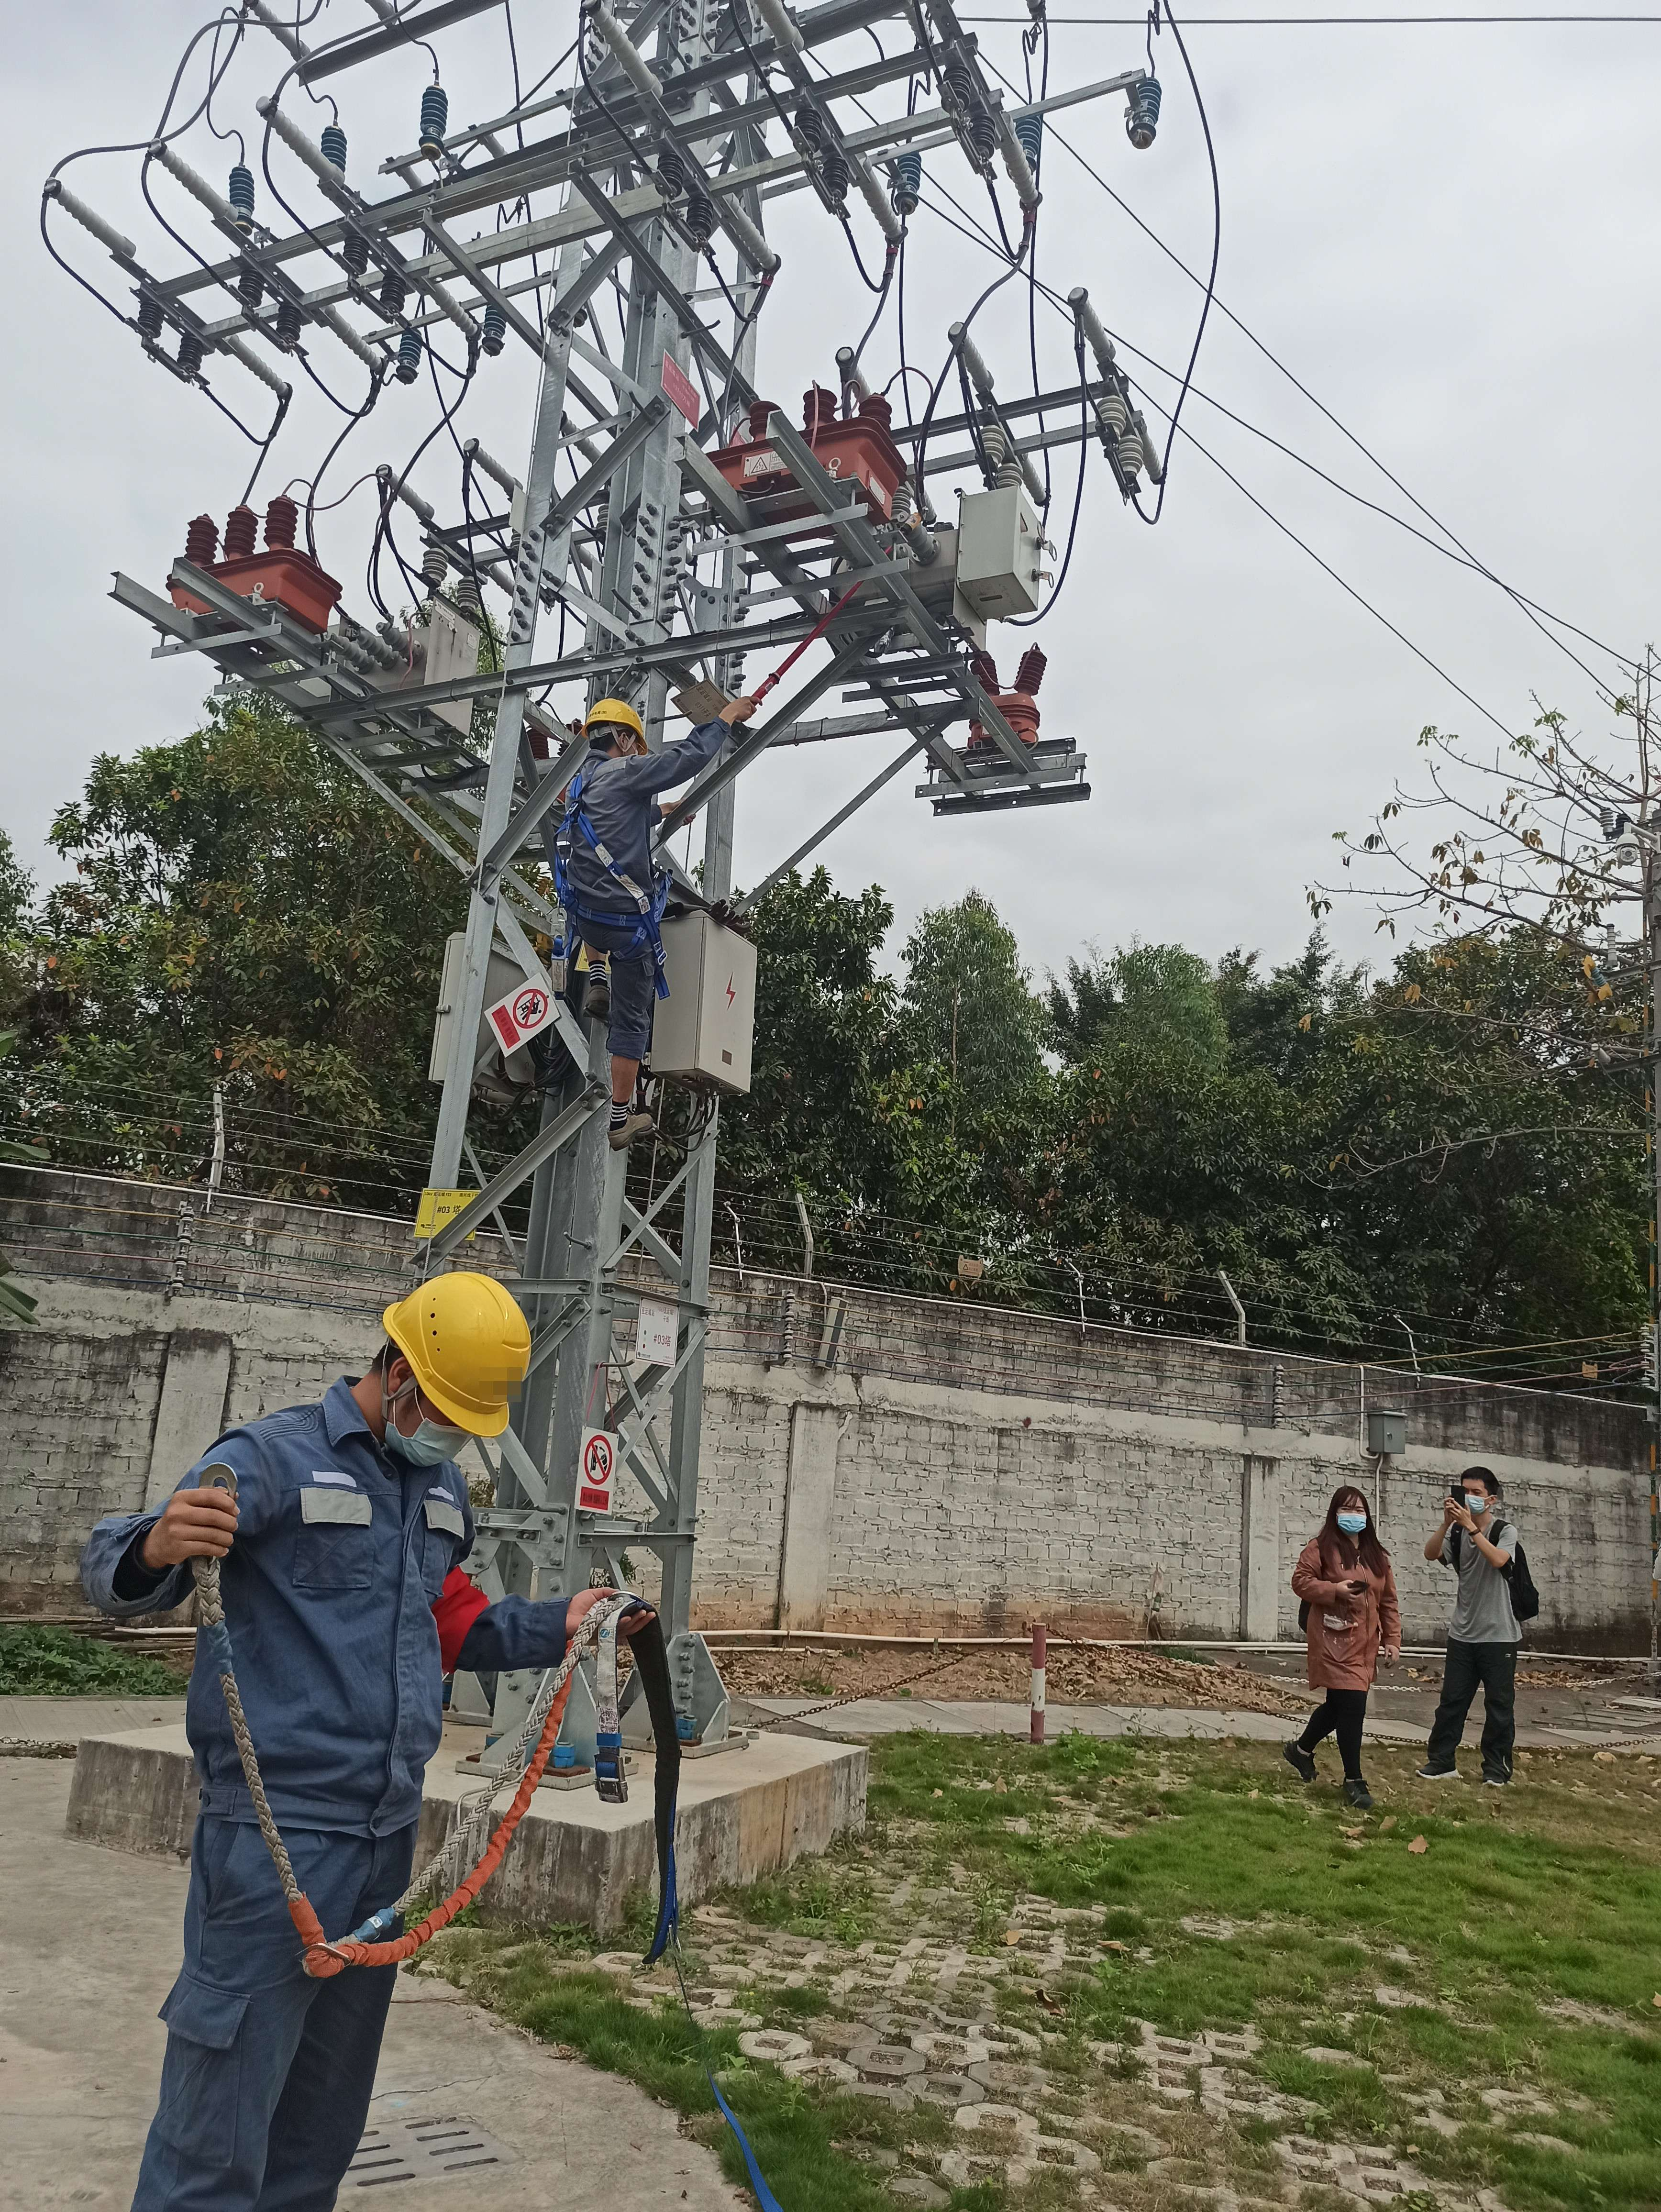downcloth: (1431, 1647, 1514, 1771), (1296, 1687, 1371, 1792)
downsuit: (112, 1795, 422, 2212), (569, 919, 660, 1064)
upcloth: (1295, 1533, 1392, 1682), (1436, 1514, 1532, 1640)
upsuit: (92, 1392, 487, 1802), (550, 734, 715, 911), (551, 752, 679, 911)
wrongbottom: (600, 1024, 649, 1118)
